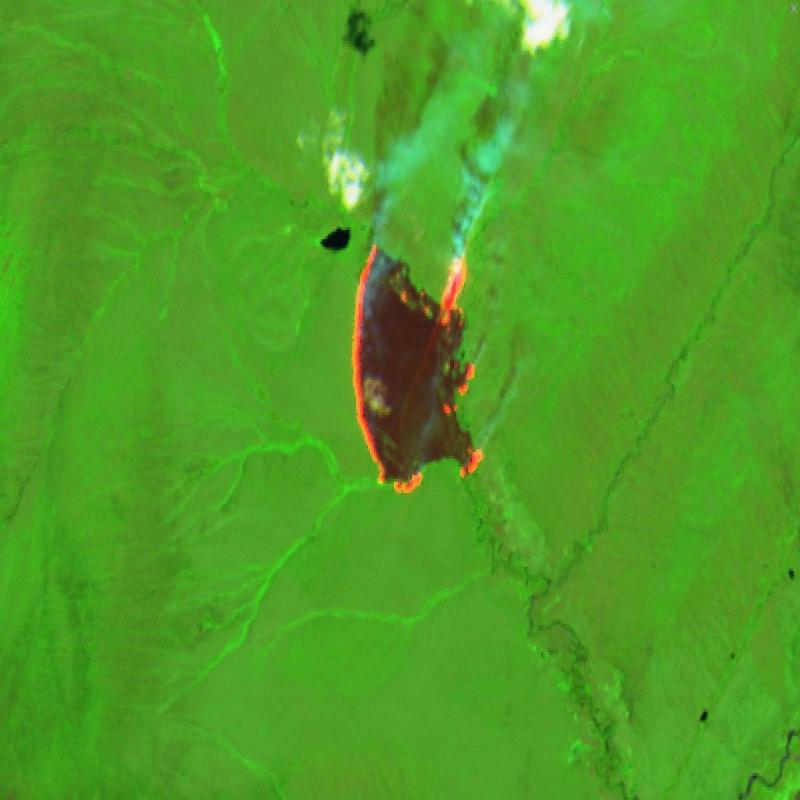fire: (348, 238, 489, 498)
